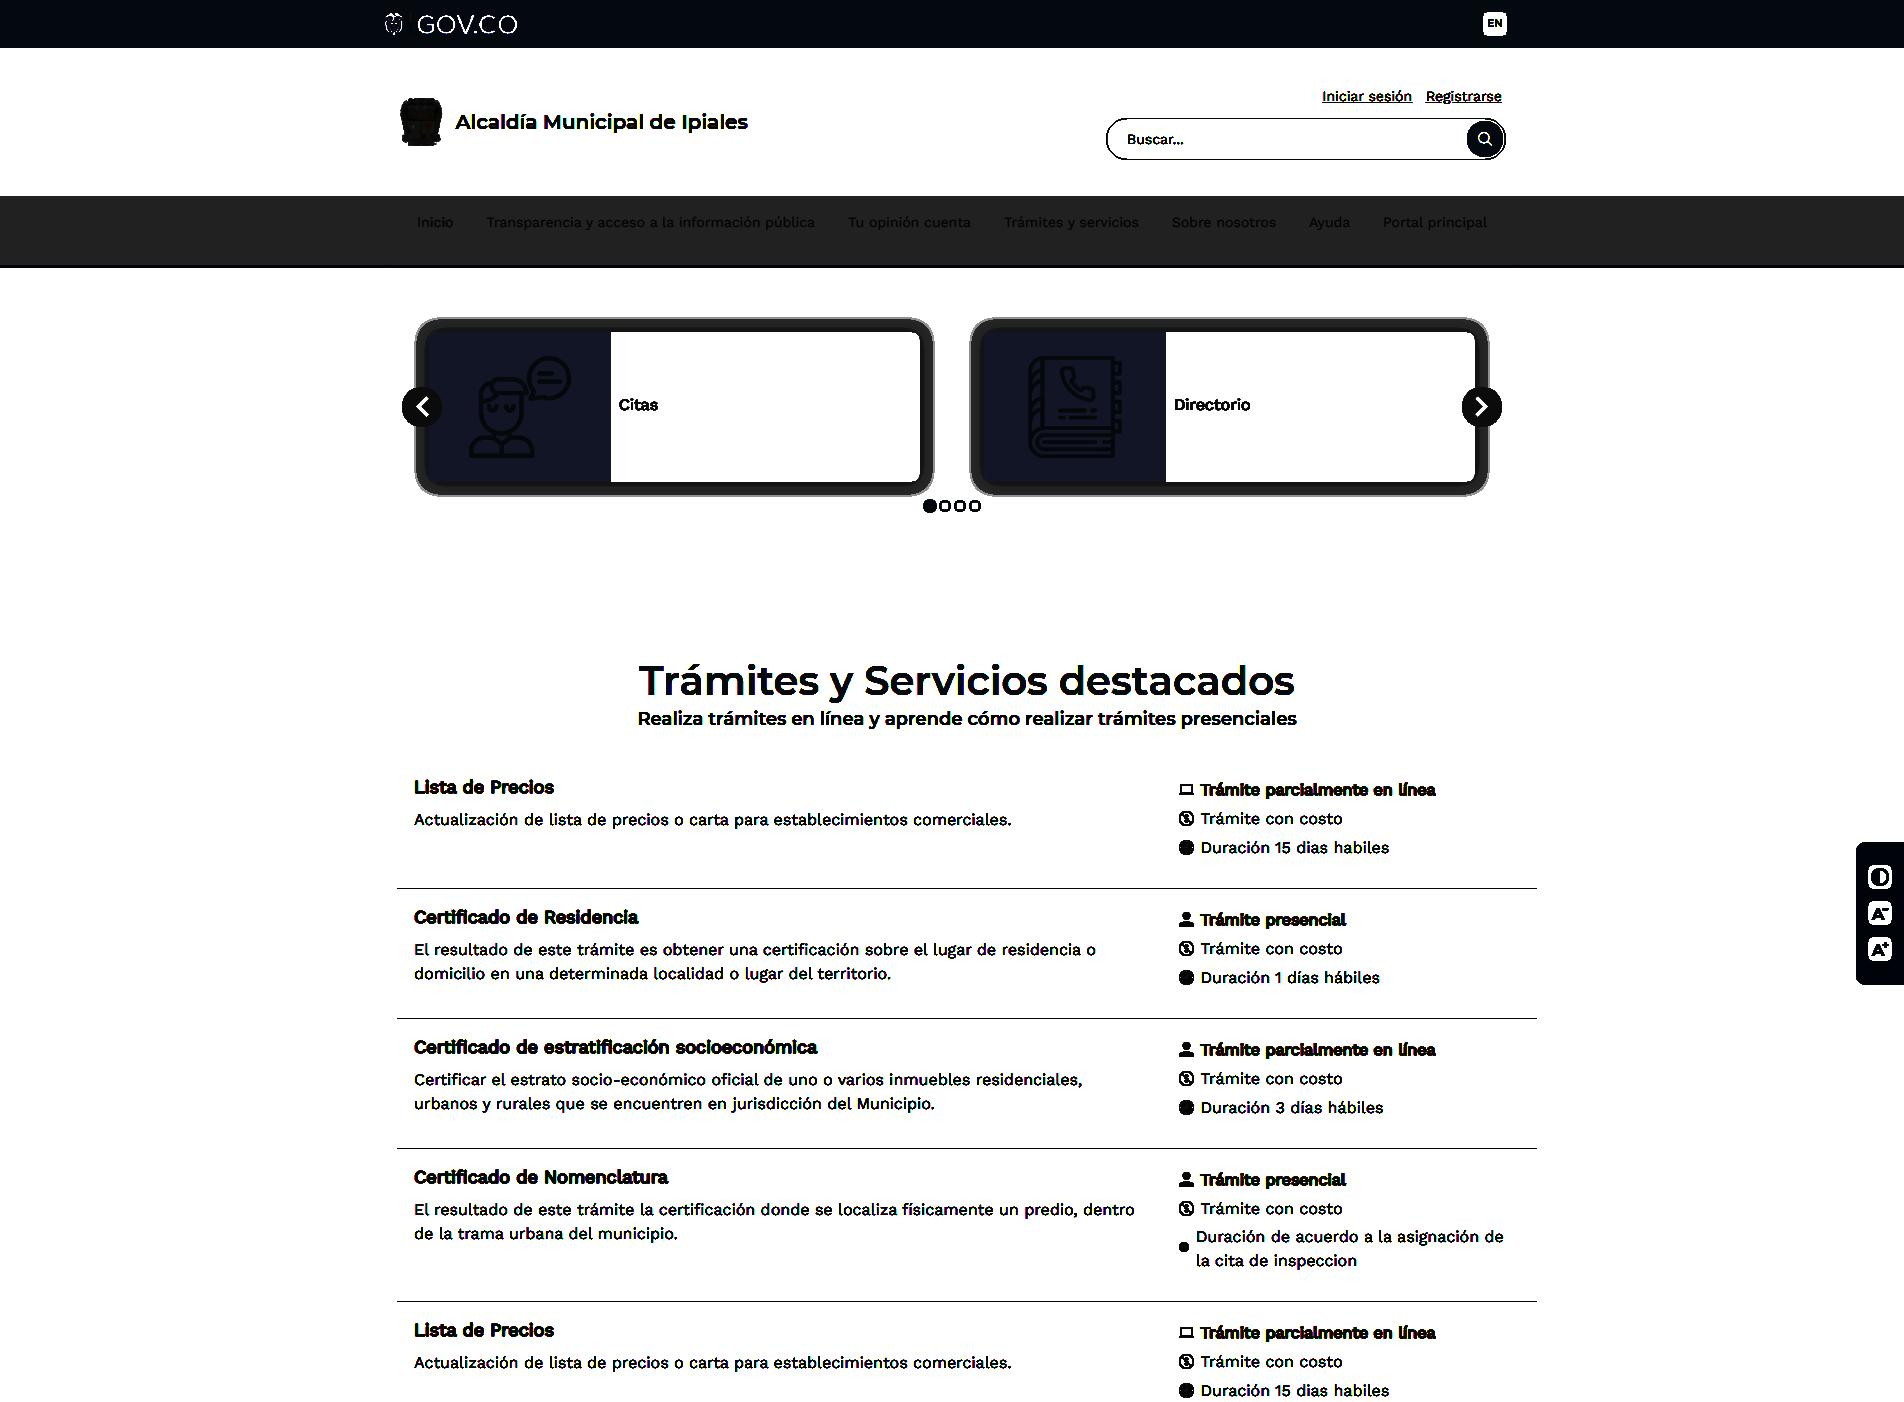barra accesibilidad: (1854, 836, 1904, 987)
barra govco: (379, 3, 1511, 51)
btn buscador: (1105, 114, 1507, 161)
btn idiomas: (1483, 11, 1507, 38)
btn inicio: (414, 214, 455, 231)
btn inicio sesion: (1319, 88, 1413, 105)
btn registro: (1424, 88, 1506, 106)
btn tramites: (1001, 212, 1144, 234)
btn transpariencia: (483, 212, 820, 232)
logogovco: (380, 7, 520, 41)
menu principal: (413, 208, 1495, 249)
